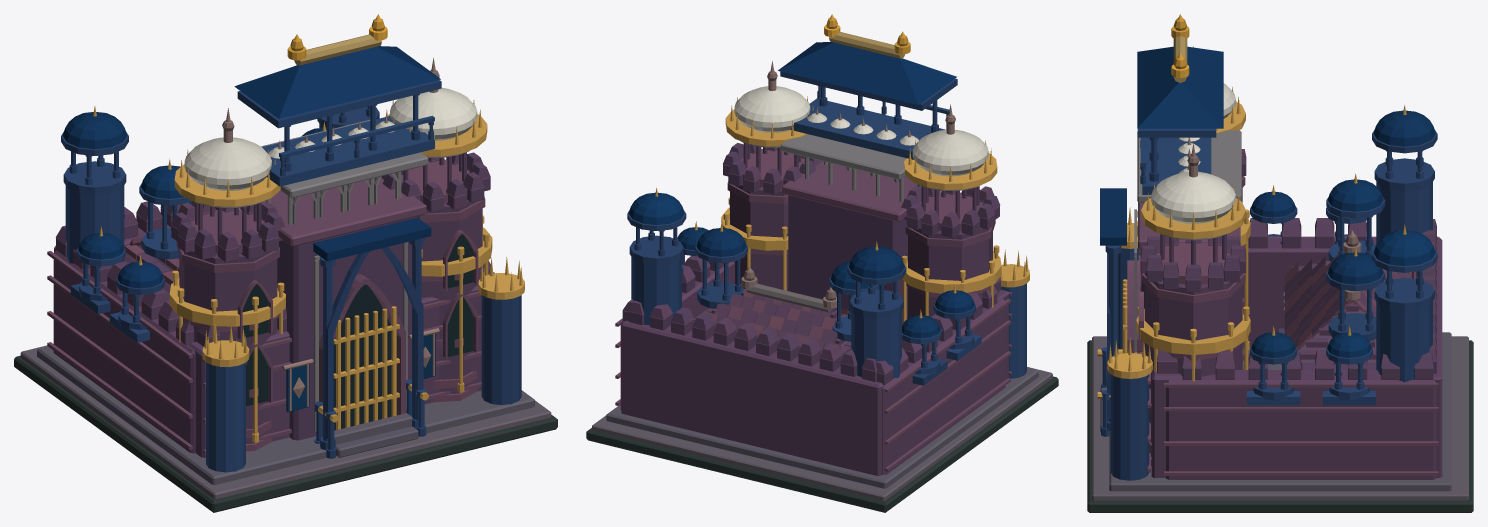
The picture shows the model from 3 angles, left to right: view 1: azimuth 30°, elevation 25°; view 2: azimuth 150°, elevation 25°; view 3: azimuth 270°, elevation 25°; orthographic projection. The views are drawn at different scales.
Visible parts, largest first — view 1: barracks_L12_0, barracks_L12_1; view 2: barracks_L12_0, barracks_L12_1; view 3: barracks_L12_0, barracks_L12_1.
Boxes of the visible parts, x1=… form: barracks_L12_0: x1=14, y1=18, x2=557, y2=512; barracks_L12_1: x1=93, y1=14, x2=524, y2=442; barracks_L12_0: x1=586, y1=18, x2=1058, y2=512; barracks_L12_1: x1=655, y1=14, x2=1029, y2=323; barracks_L12_0: x1=1087, y1=18, x2=1473, y2=512; barracks_L12_1: x1=1097, y1=14, x2=1406, y2=398.
Size of the model in its own units: 5.6 by 6.38 by 5.6.
